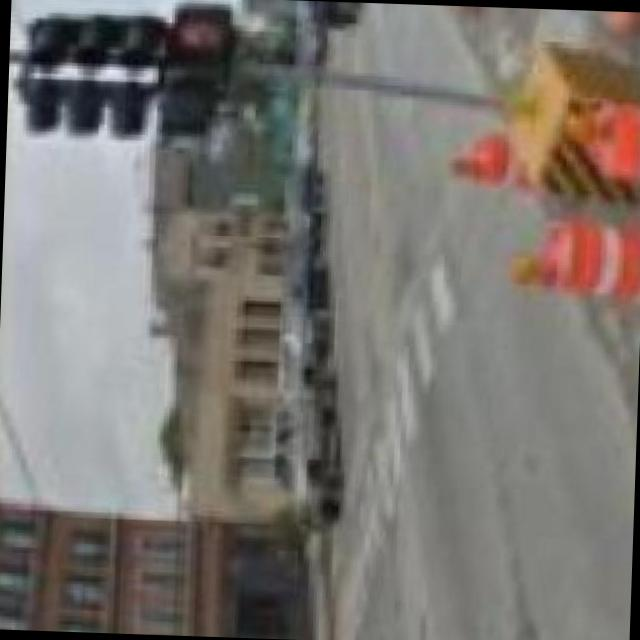zebra: (318, 232, 476, 640)
